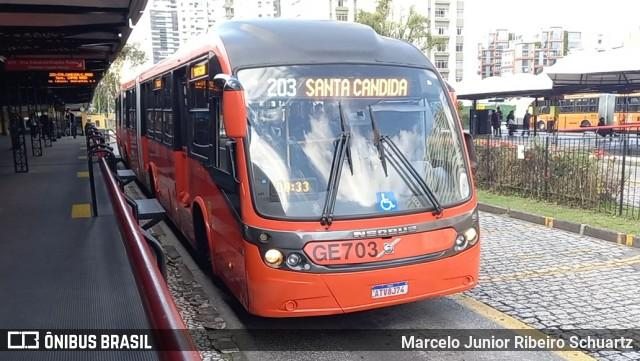SANTA CANDIDA: (302, 76, 412, 98)
